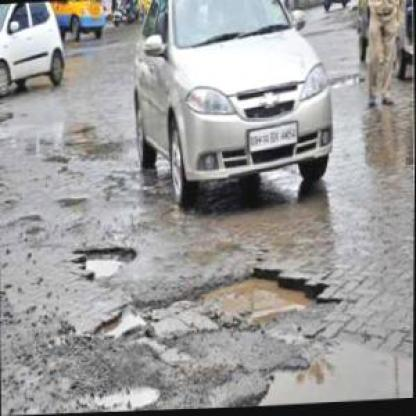pothole: (93, 260, 341, 352), (211, 337, 413, 409), (70, 240, 138, 286), (87, 384, 161, 413)
